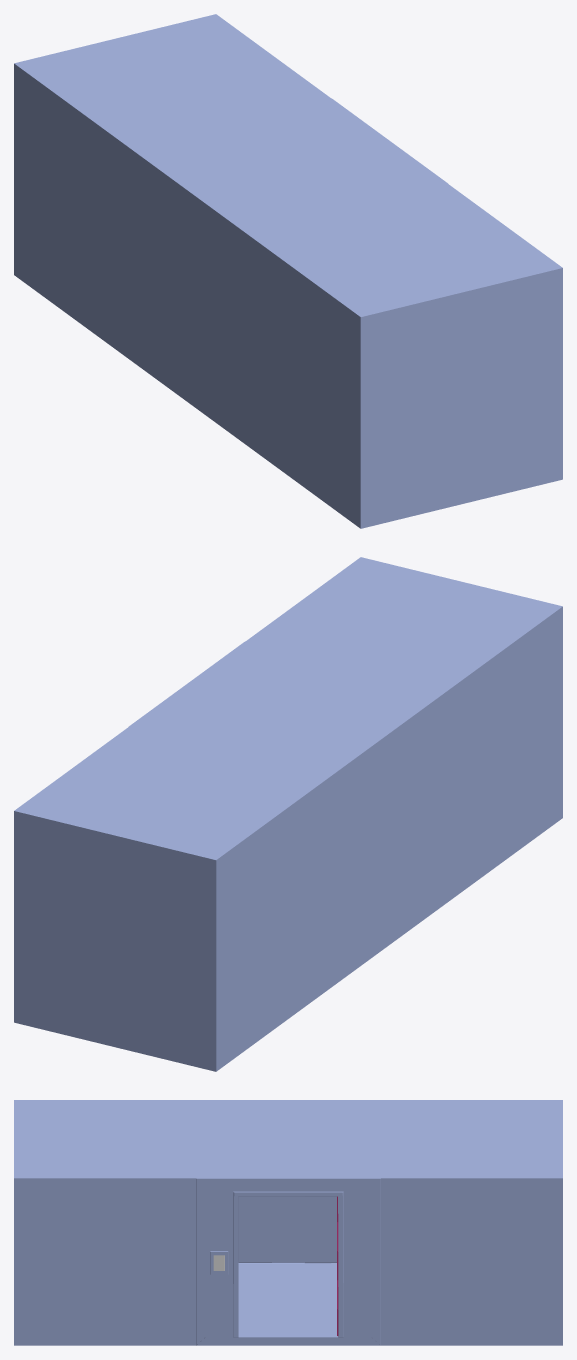
File: Elevator.fbx
The picture shows the model from 3 angles, top to bottom: view 1: azimuth 30°, elevation 25°; view 2: azimuth 150°, elevation 25°; view 3: azimuth 270°, elevation 25°; orthographic projection. The views are drawn at different scales.
Visible parts, largest first — view 1: Elevator; view 2: Elevator; view 3: Elevator.
Boxes of the visible parts, x1,y1,x2,y2 form: Elevator: [14, 14, 562, 528]; Elevator: [14, 557, 562, 1071]; Elevator: [14, 1100, 562, 1345].
Size of the model in its own units: 201 by 200 by 594.
